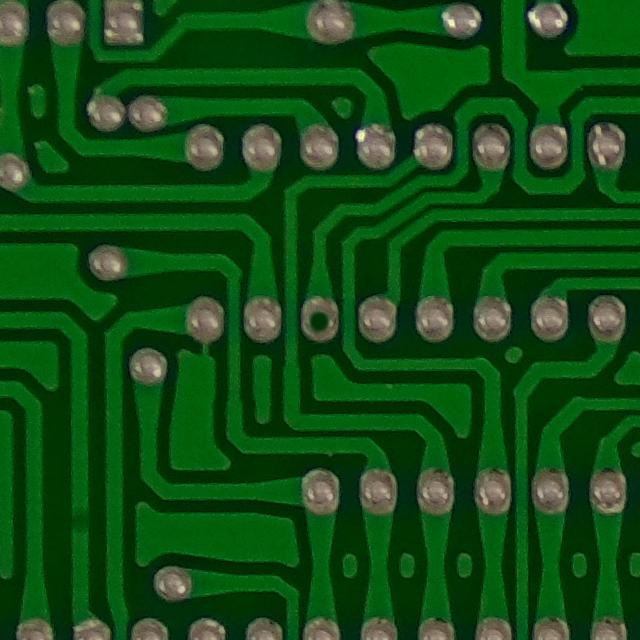missing_hole: (295, 292, 345, 348)
